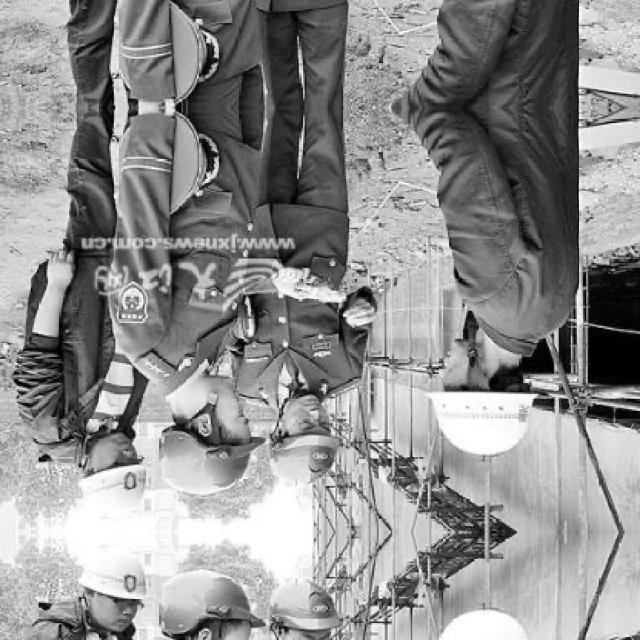con casco: (430, 321, 594, 480), (110, 366, 278, 501), (58, 425, 158, 559), (250, 389, 351, 501)
